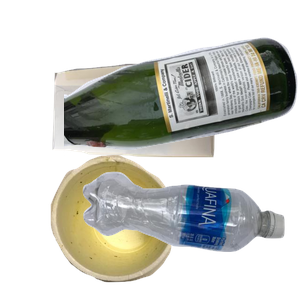glass: (64, 35, 300, 181)
paper: (50, 61, 257, 211)
plastic: (80, 169, 300, 300)
trash: (48, 152, 219, 300)
